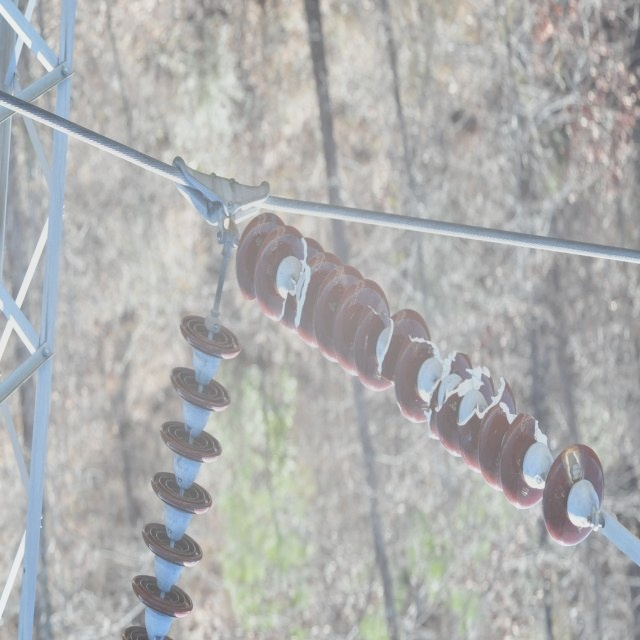broken: (438, 362, 508, 435), (425, 345, 470, 439), (279, 236, 317, 330), (499, 396, 550, 447), (406, 329, 446, 368), (378, 313, 397, 386)
insulator: (236, 212, 605, 551), (123, 316, 238, 640)
